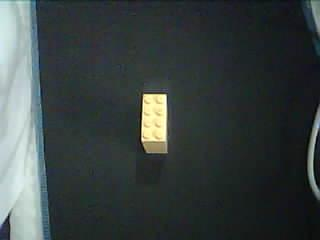lego: (139, 92, 168, 154)
